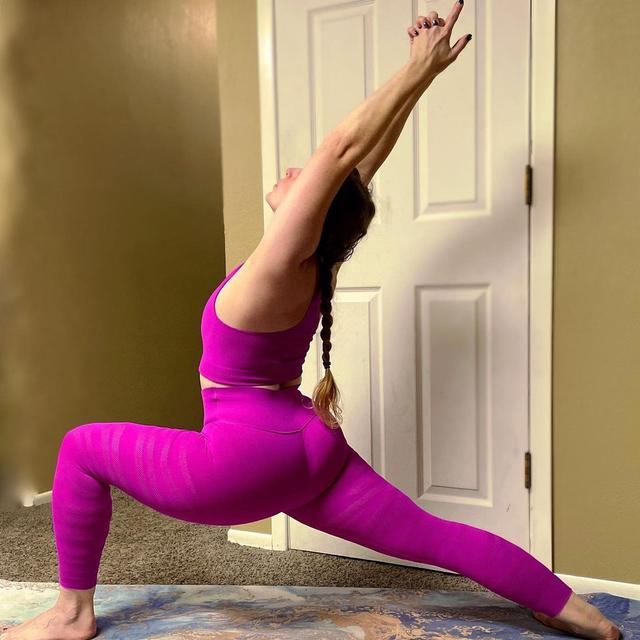Warrior_I: (1, 3, 626, 640)
